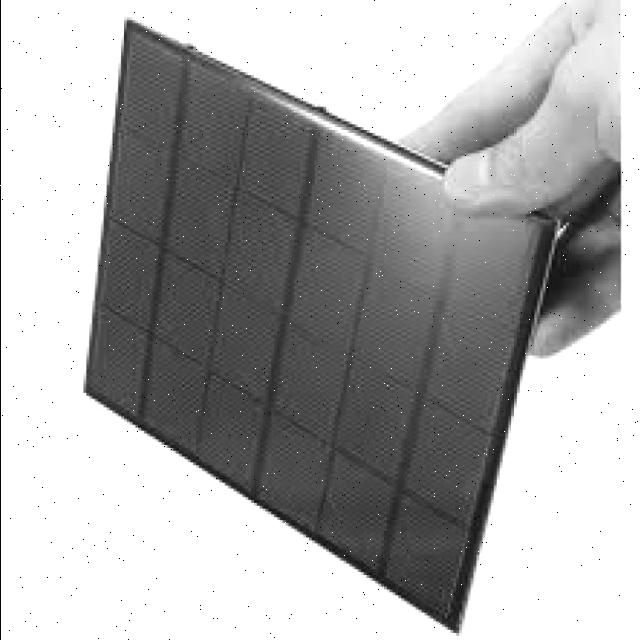Normal Solar Panel: (84, 21, 564, 631)
